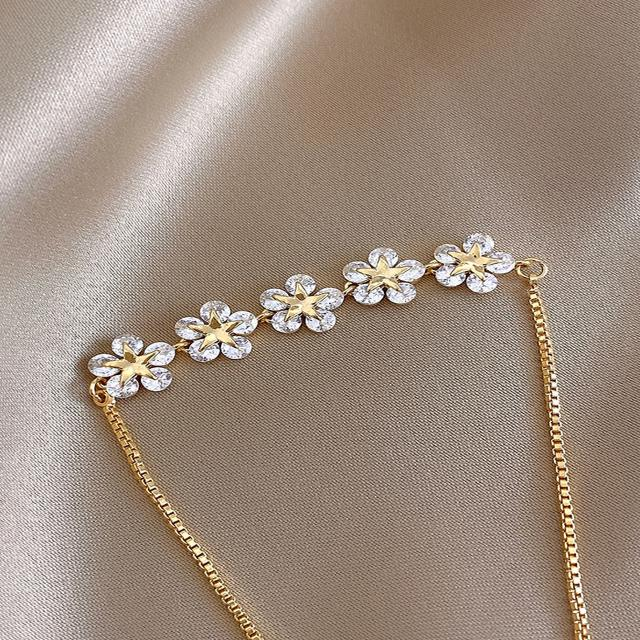bracelet: (40, 190, 640, 640)
